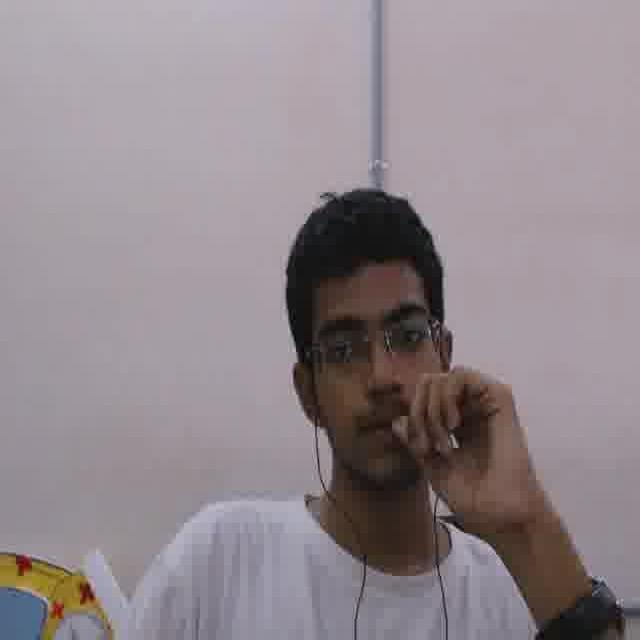Frustration: (309, 266, 436, 478)
